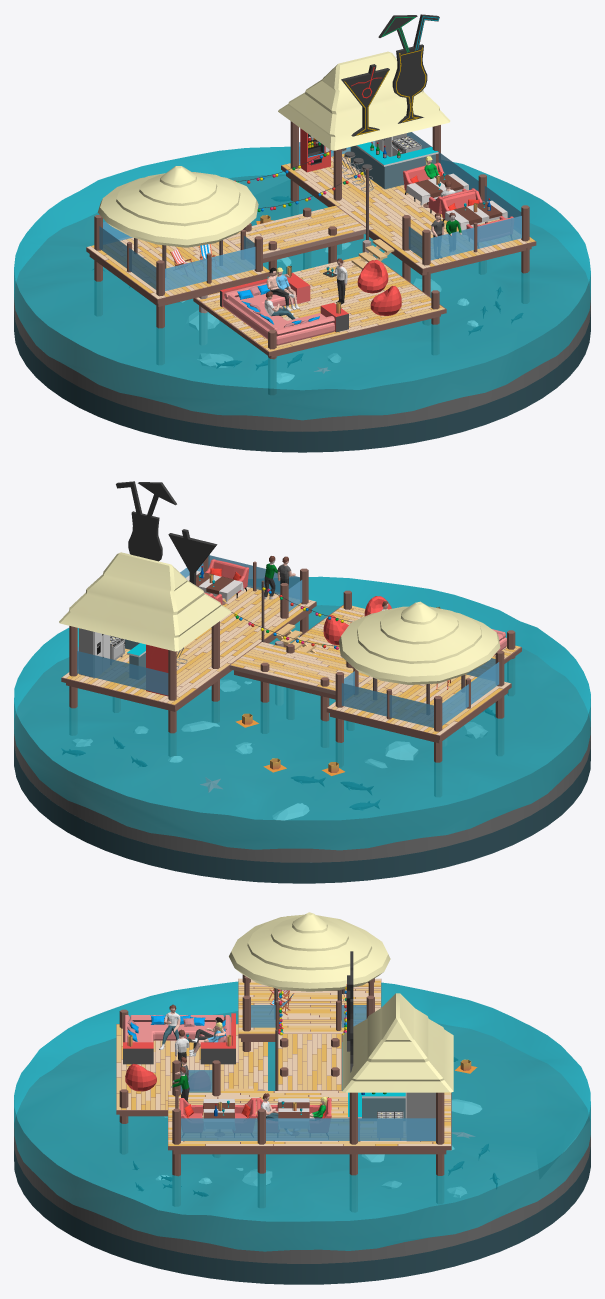
Rendered from land_54.fbx.
The picture shows the model from 3 angles, top to bottom: view 1: azimuth 30°, elevation 25°; view 2: azimuth 150°, elevation 25°; view 3: azimuth 270°, elevation 25°; orthographic projection.
Parts seen in each view (by area): view 1: land_11.084, land_11.086, land_11.085, land_54.137, land_54.146, land_54.136, land_54.167, land_54.142, land_54.224, land_54.223, land_54.187, land_54.185 (+16 smaller); view 2: land_11.084, land_11.086, land_11.085, land_54.137, land_54.146, land_54.136, land_54.224, land_54.187, land_54.185, land_54.223, land_54.147, land_54.125 (+12 smaller); view 3: land_11.084, land_11.086, land_11.085, land_54.137, land_54.146, land_54.136, land_54.223, land_54.167, land_54.187, land_54.142, land_54.185, land_54.147 (+9 smaller).
Boxes of the visible parts, x1,y1,x2,y2 form: land_11.084: (14,146,590,420); land_11.086: (14,174,590,431); land_11.085: (14,311,590,452); land_54.137: (97,166,258,268); land_54.146: (278,51,450,150); land_54.136: (281,153,536,275); land_54.167: (193,255,446,356); land_54.142: (220,272,348,345); land_54.224: (99,222,255,290); land_54.223: (299,132,521,260); land_54.187: (86,237,270,303); land_54.185: (226,205,365,258); land_11.084: (14,576,590,850); land_11.086: (14,605,590,862); land_11.085: (14,741,590,883); land_54.137: (339,601,500,704); land_54.146: (59,552,231,651); land_54.136: (61,587,316,711); land_54.224: (341,658,499,727); land_54.187: (326,674,511,739); land_54.185: (229,642,369,694); land_54.223: (77,555,302,695); land_54.147: (69,621,219,756); land_54.125: (116,481,176,561); land_11.084: (14,981,590,1251); land_11.086: (14,1011,590,1263); land_11.085: (14,1142,590,1284); land_54.137: (229,912,390,1020); land_54.146: (342,993,453,1092); land_54.136: (168,1091,451,1154); land_54.223: (180,1070,435,1140); land_54.167: (116,1024,267,1114); land_54.187: (238,978,381,1038); land_54.142: (123,1013,235,1064); land_54.185: (278,1034,341,1090); land_54.147: (349,1092,444,1212).
Size of the model in its own units: 19.99 by 10.26 by 19.99.
